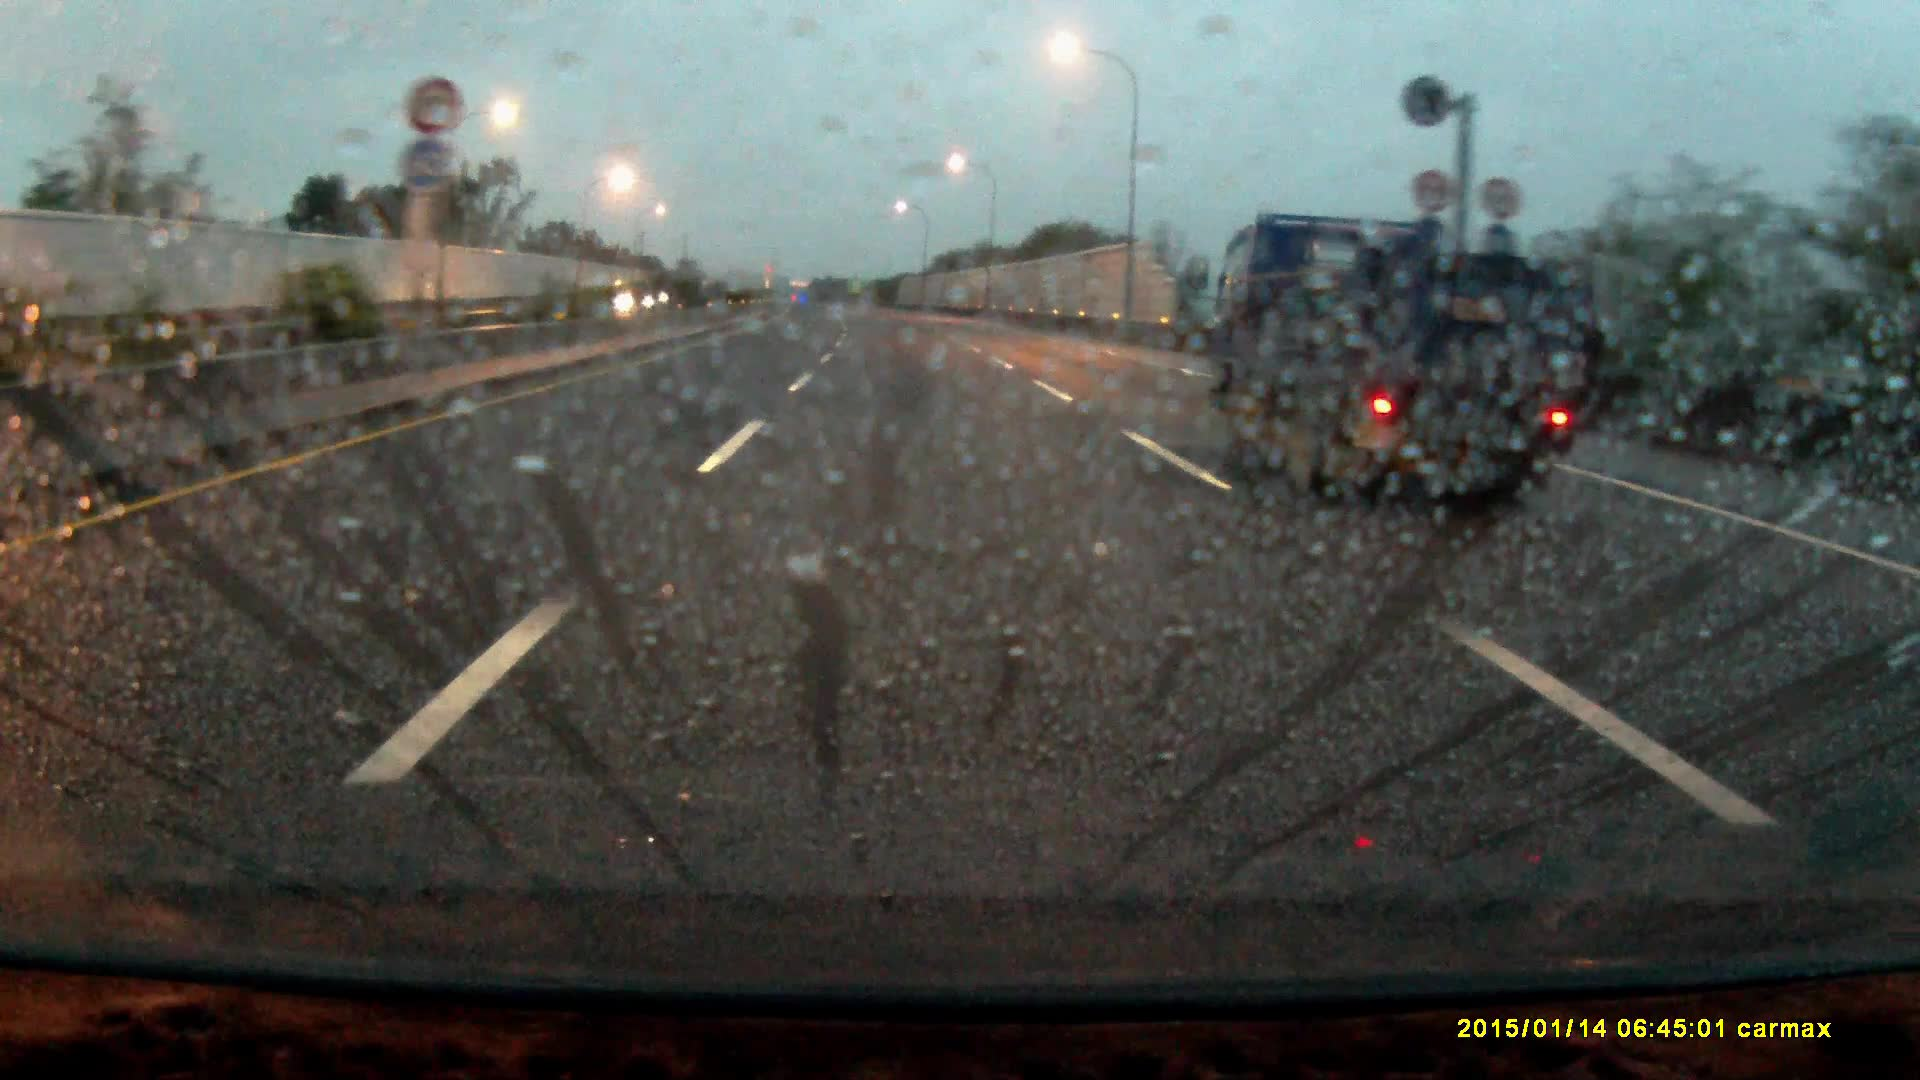vehicle: (1215, 204, 1617, 530)
